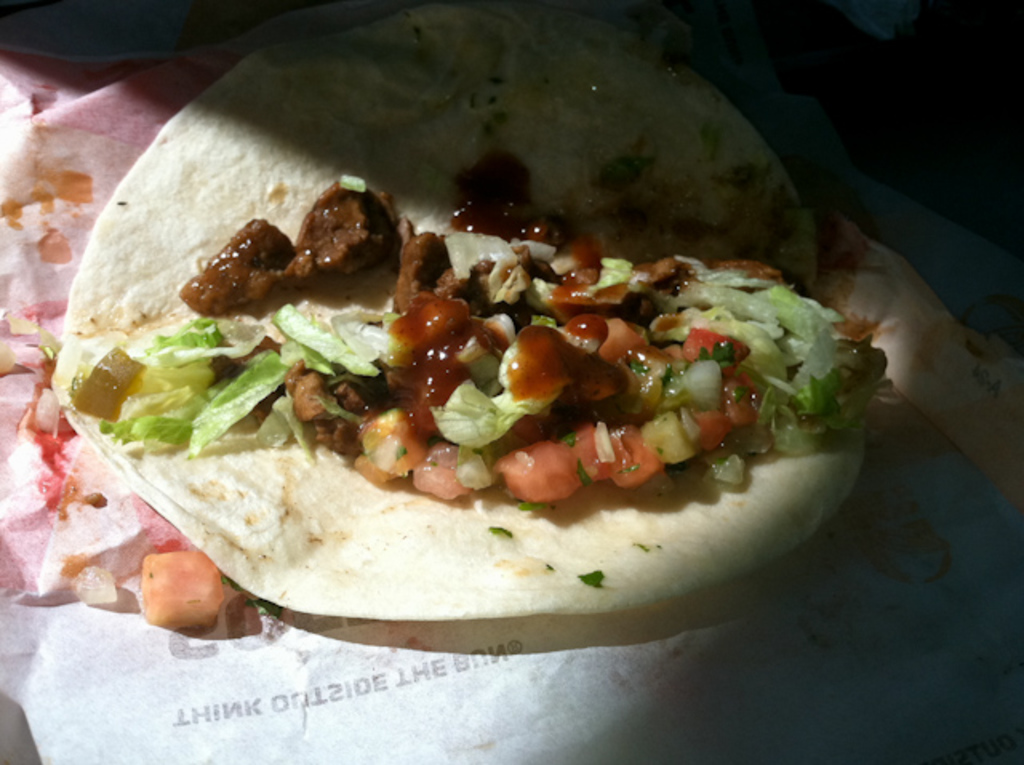taco: (50, 0, 890, 621)
